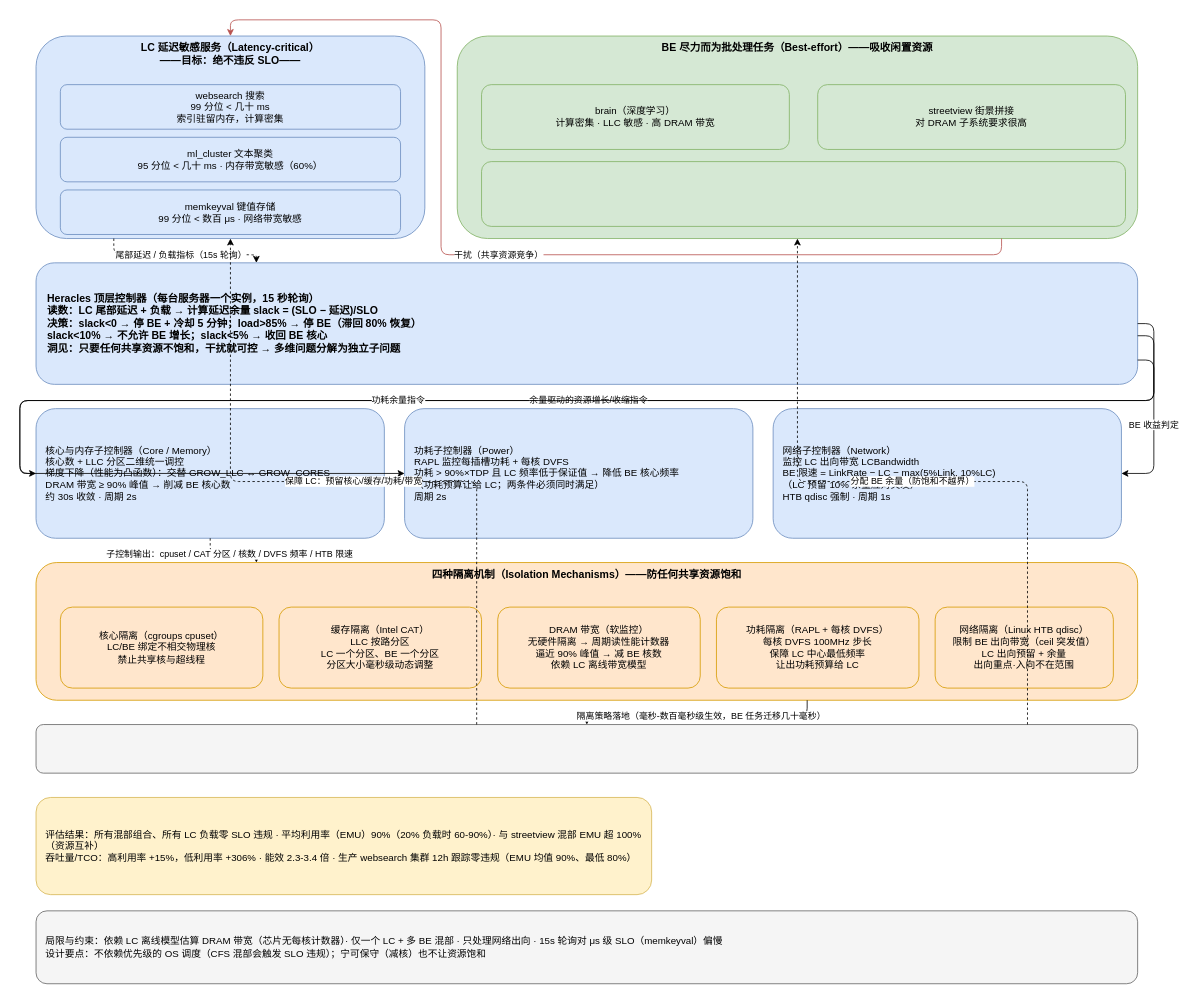
The diagram is 1193 pixels wide and 998 high, and some of its shapes have lost their labels. The centre of each missing label's shape, as x and y in pixels:
"合成压力源：stream-LLC · stream-DRAM · cpu_pwr · iperf （分别打压缓存 / 内存带宽 / 功耗 / 出向带宽）" goes at pixel 803 193.
"服务器共享资源：CPU 核心·末级缓存 LLC·DRAM 带宽·CPU 功耗（TDP/Turbo）·出向网络带宽" goes at pixel 586 748.
